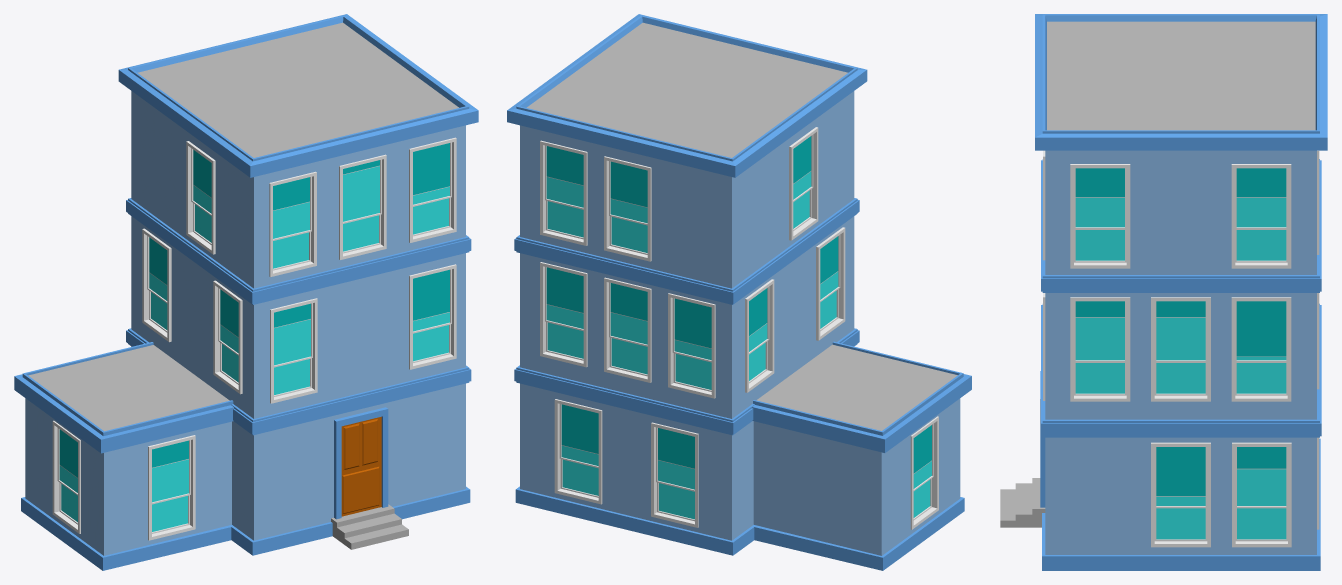
The model's file is SM_House_03_03.FBX.
3 renders of one model, left to right at view 1: azimuth 30°, elevation 25°; view 2: azimuth 150°, elevation 25°; view 3: azimuth 270°, elevation 25°, orthographic. The views are drawn at different scales.
Parts seen in each view (by area): view 1: SM_House_03_03; view 2: SM_House_03_03; view 3: SM_House_03_03.
Boxes of the visible parts, x1,y1,x2,y2 form: SM_House_03_03: (14, 14, 478, 570); SM_House_03_03: (507, 14, 971, 570); SM_House_03_03: (1000, 14, 1327, 570).
Size of the model in its own units: 6.7 by 7.14 by 4.81.
1 material, 1 textured.
